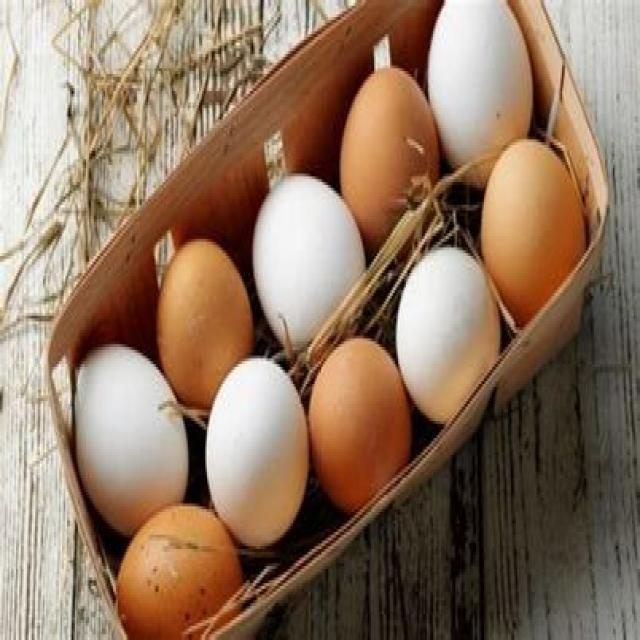Egg: (388, 235, 518, 456), (66, 329, 194, 536), (195, 348, 312, 551), (258, 147, 372, 346)
